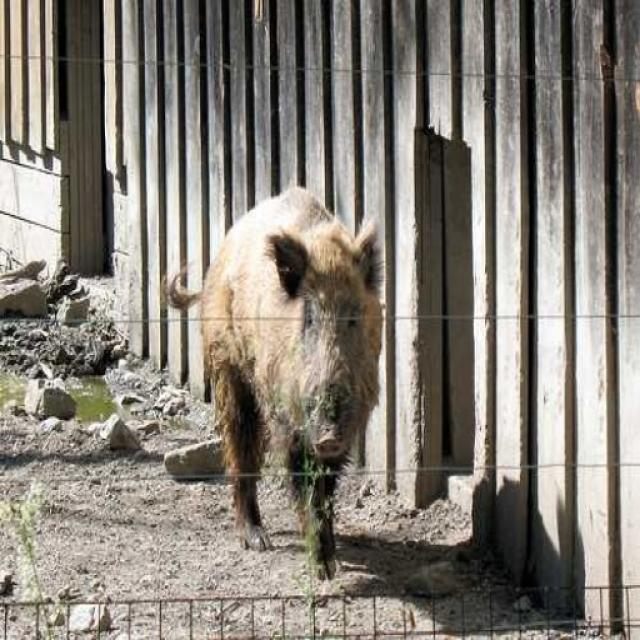pig: (176, 158, 403, 588)
